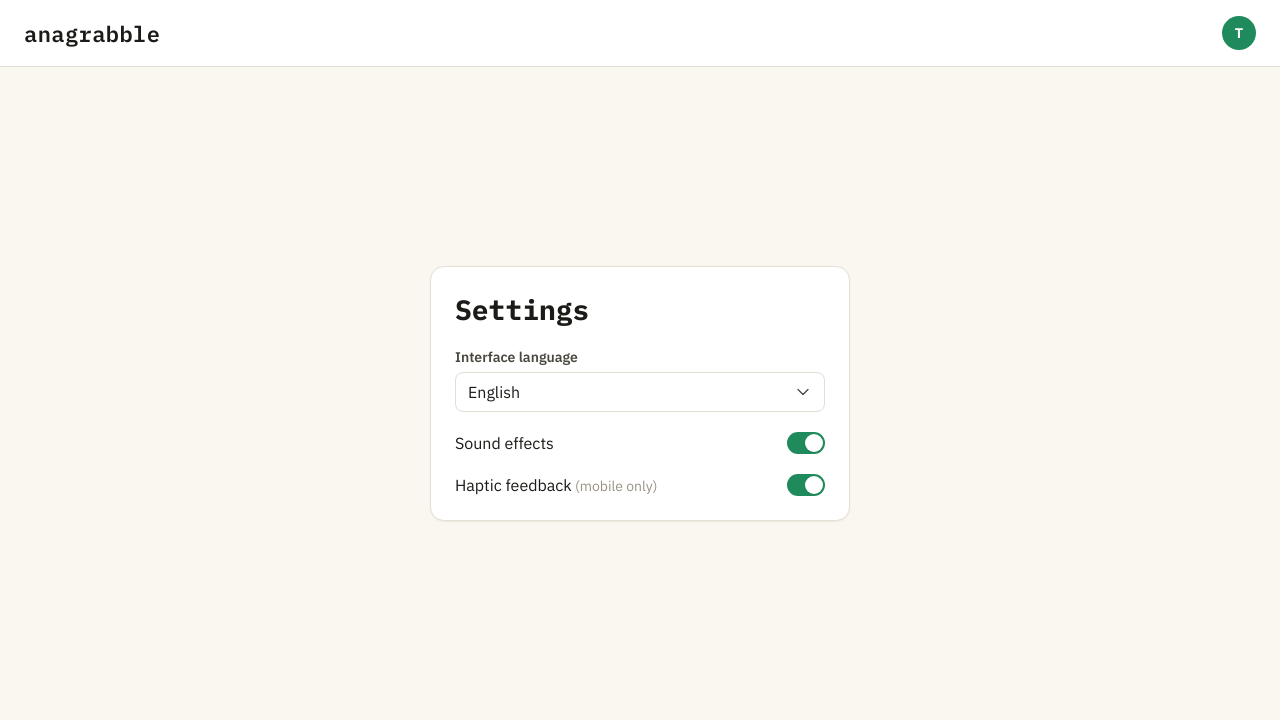
Test: SettingsPage › reverts the toggle and shows an error when the save fails
Click the switch named "Sound effects": point(806, 443) [787,432,825,454]
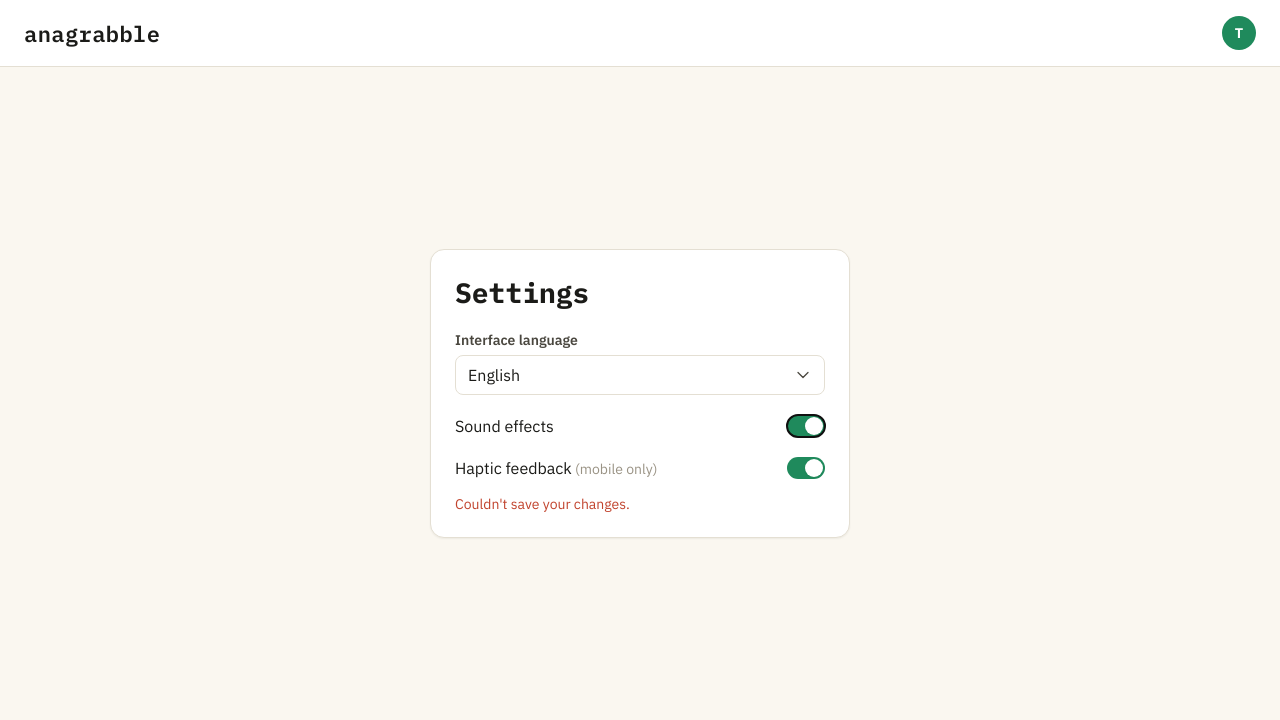
Expected: the text "Couldn't save your changes." is shown, [455,495,630,513]
